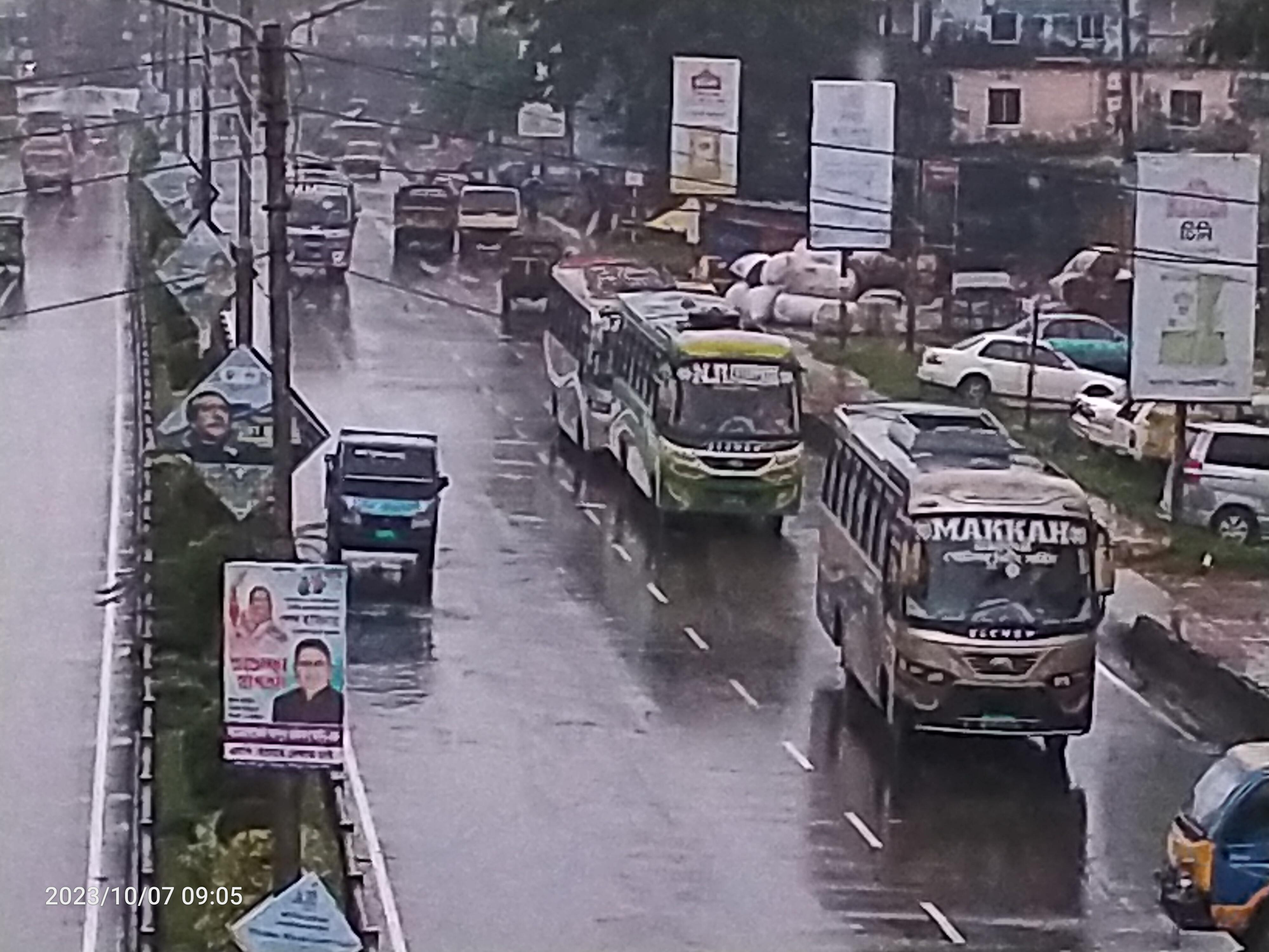Bus: (804, 382, 1104, 790), (595, 276, 822, 559), (530, 246, 636, 467), (245, 146, 369, 294)
Car: (899, 321, 1128, 447), (1148, 397, 1269, 571), (1051, 364, 1184, 483), (988, 301, 1163, 387), (455, 178, 533, 258)
Truck: (269, 402, 477, 609), (1122, 701, 1269, 950)
